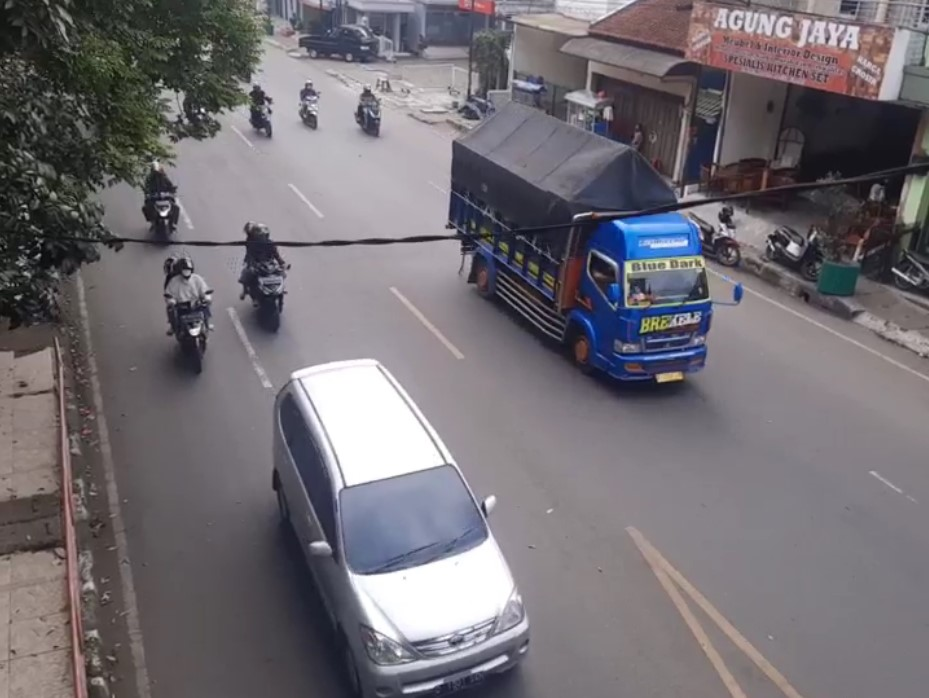mobil: (329, 461, 531, 693), (616, 253, 715, 393)
motor: (157, 253, 217, 366), (238, 218, 293, 336), (132, 166, 186, 253), (246, 86, 283, 143), (294, 76, 326, 136), (352, 84, 384, 140)
